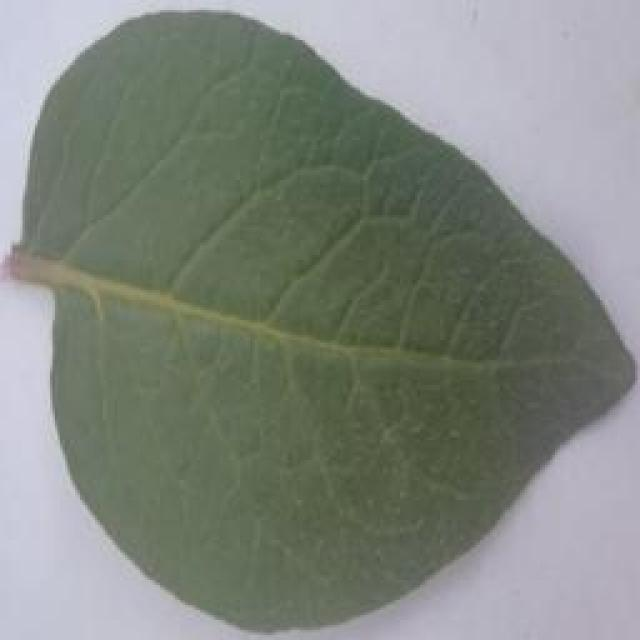Potato_Healthy: (10, 10, 628, 630)
